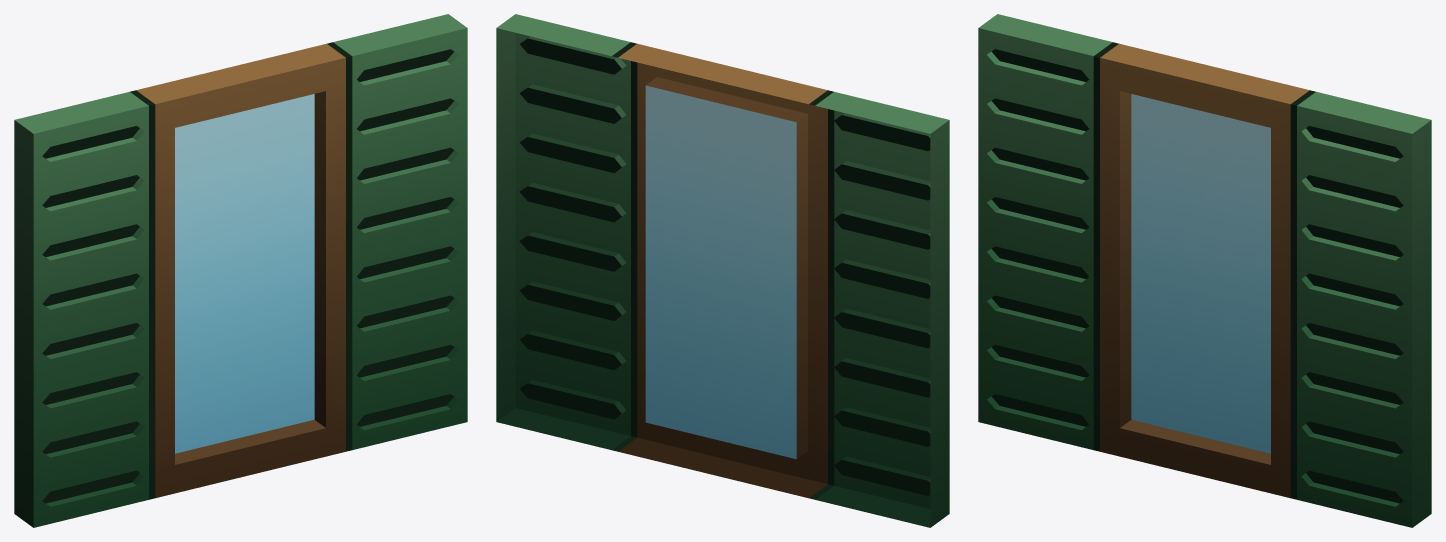
File: Window_07B.fbx
The picture shows the model from 3 angles, left to right: view 1: azimuth 30°, elevation 25°; view 2: azimuth 150°, elevation 25°; view 3: azimuth 330°, elevation 25°; orthographic projection.
Visible parts, largest first — view 1: Window_07B; view 2: Window_07B; view 3: Window_07B.
Part boxes in pixels (x1,y1,x2,y2): Window_07B: (14,14,467,527); Window_07B: (496,14,949,527); Window_07B: (978,14,1431,527).
Bounding box in the file's own units: 286 × 248 × 21.94.
2 materials, 2 textured.
